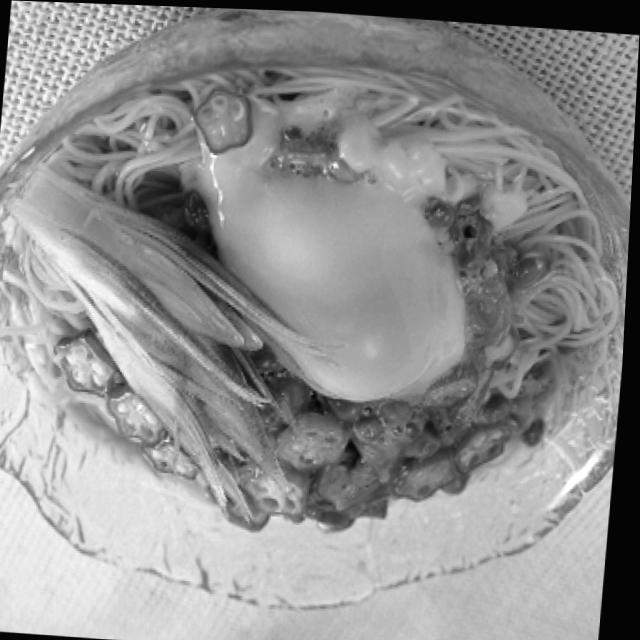面条主食: (0, 0, 640, 631)
